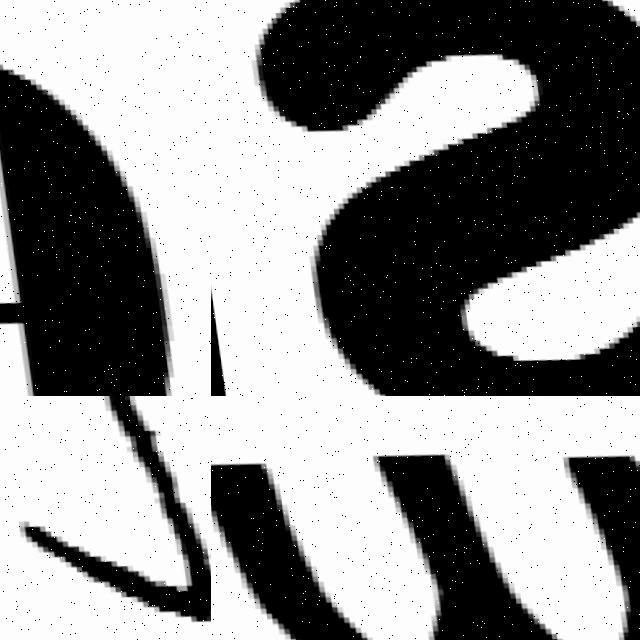E: (0, 63, 168, 396)
L: (0, 396, 211, 616)
S: (227, 0, 640, 396)
W: (211, 396, 640, 640)
